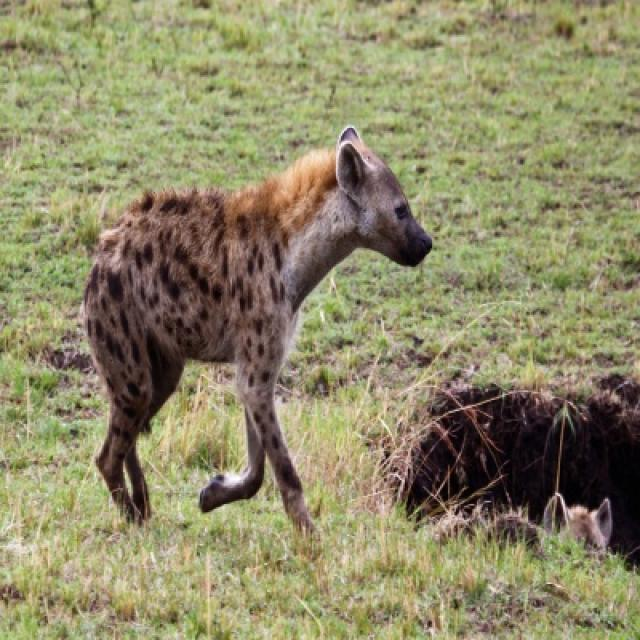hyena: (82, 126, 435, 538)
